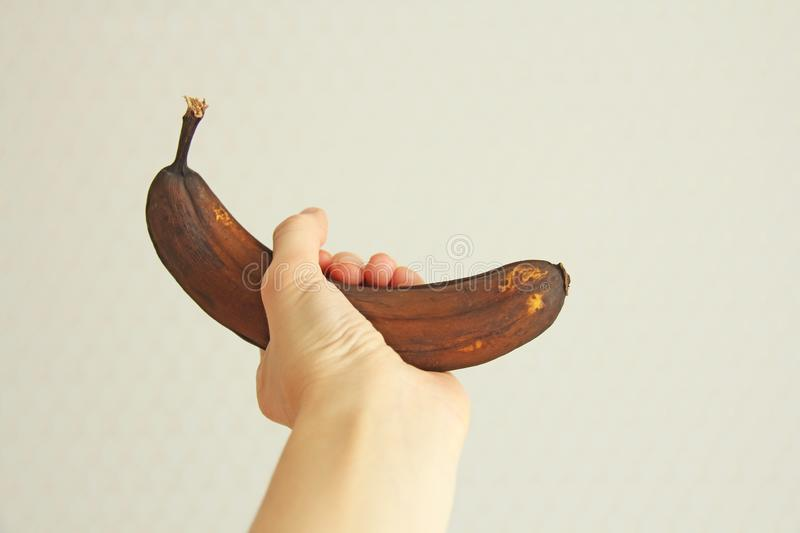looks_defective: (61, 81, 600, 449)
